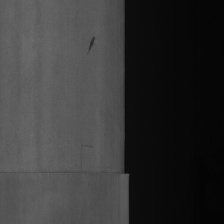welding_line: (0, 165, 132, 183)
